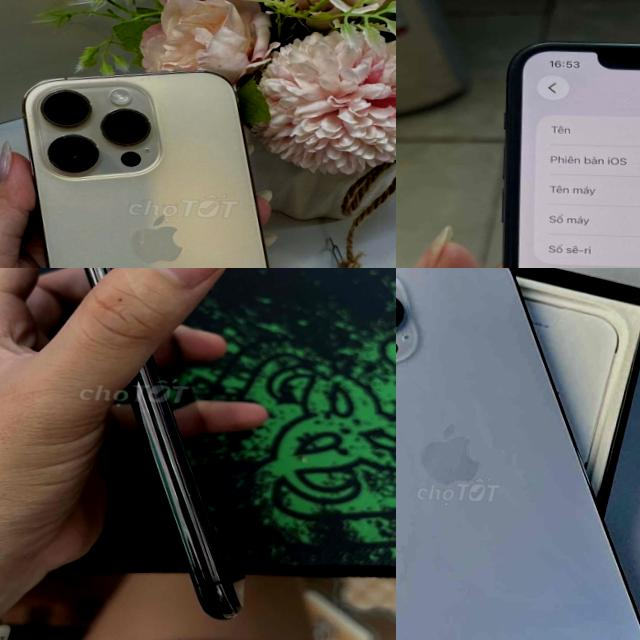scratch: (164, 468, 201, 508)
